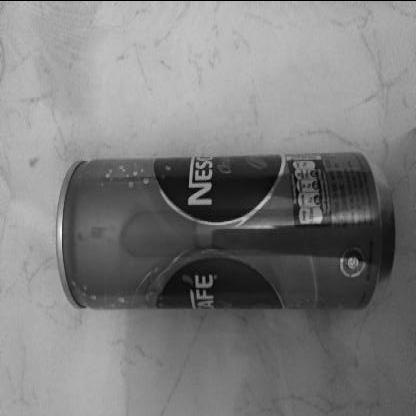alumunium_can: (55, 146, 398, 312)
